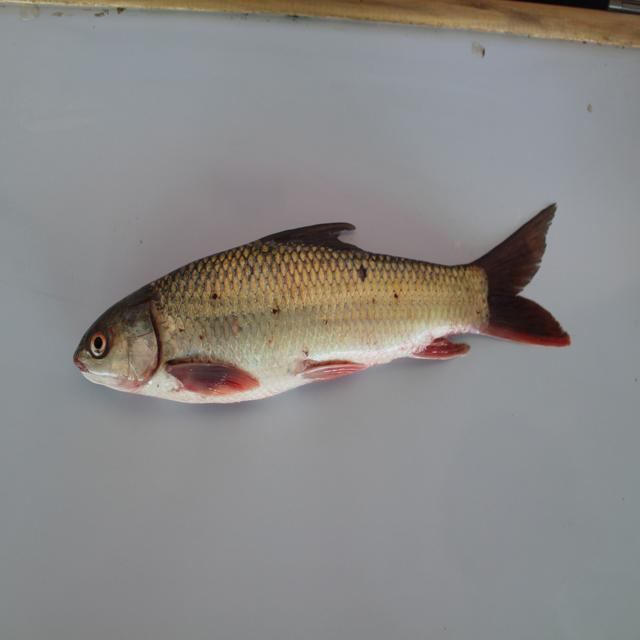Mori: (74, 189, 590, 423)
